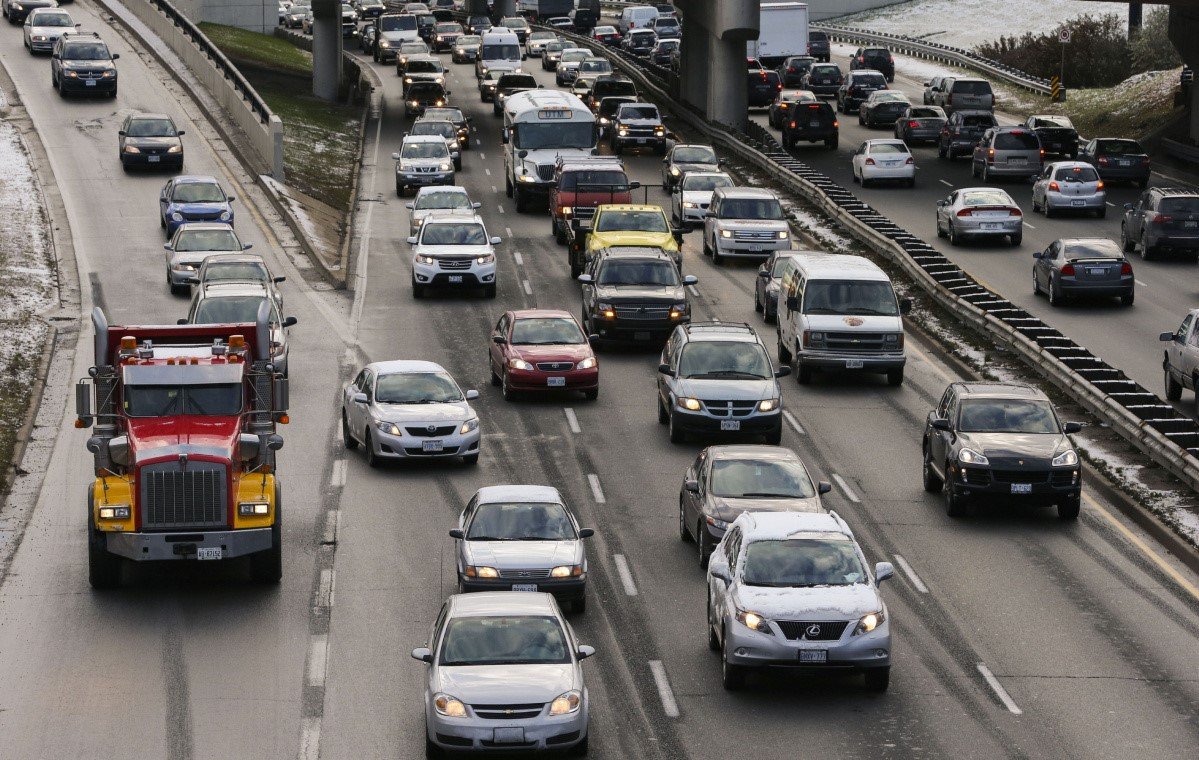HeavyVehicle: (84, 312, 288, 586)
LightVehicle: (705, 513, 892, 700), (411, 588, 603, 753), (922, 380, 1088, 525), (656, 325, 786, 439), (338, 365, 484, 463), (456, 484, 589, 590), (480, 308, 602, 404), (1030, 237, 1136, 313), (405, 219, 500, 299), (705, 186, 794, 264), (934, 185, 1027, 247), (49, 33, 120, 100), (116, 115, 188, 171), (1036, 160, 1108, 215), (849, 137, 918, 187)
